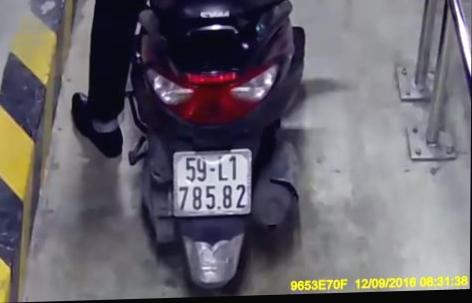License_Plate: (162, 143, 260, 221)
